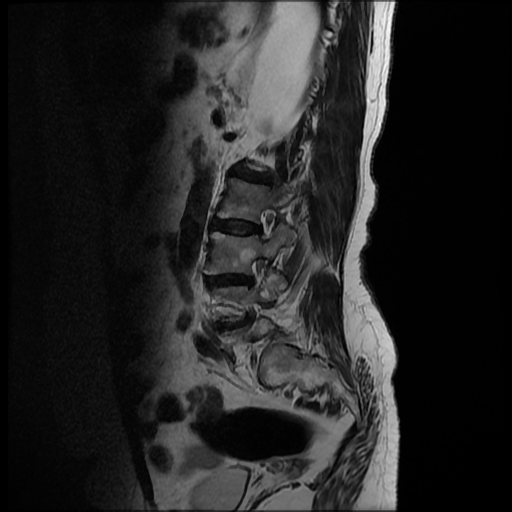LFS0: (249, 200, 282, 246)
